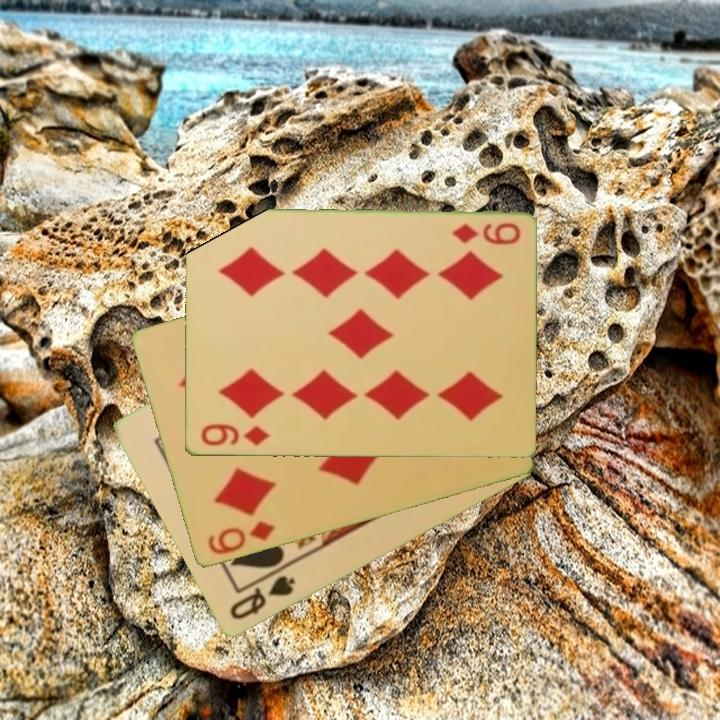6d: (204, 517, 278, 558)
9d: (448, 219, 523, 248), (197, 421, 272, 449)
Qs: (226, 572, 298, 624)
